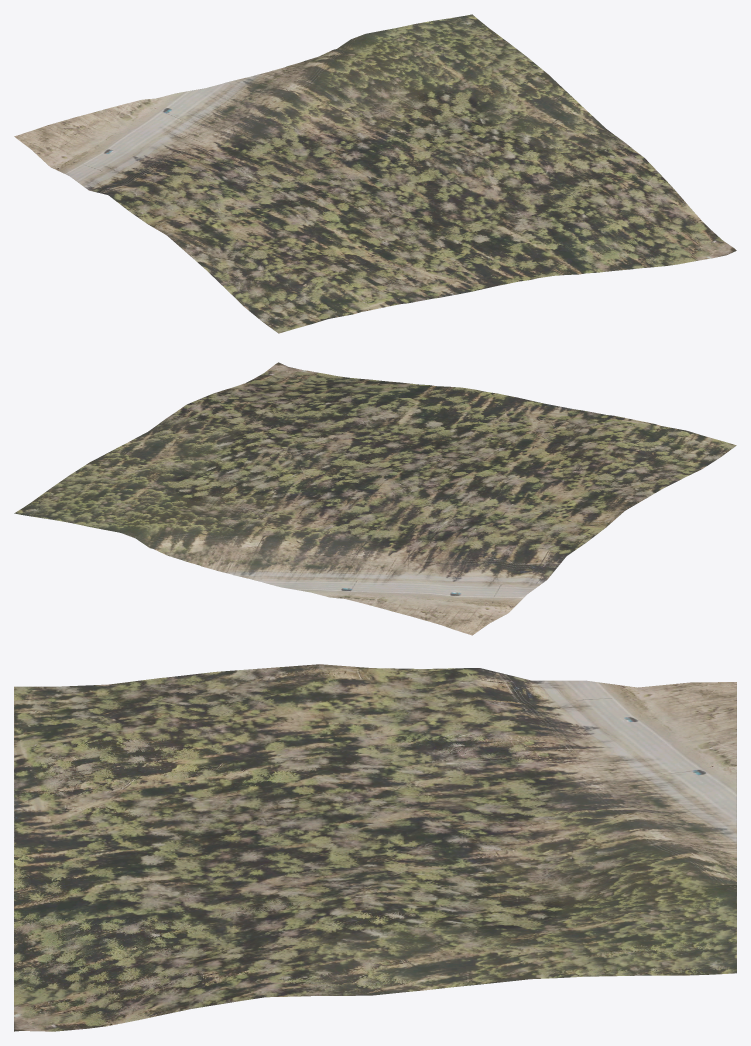
The model's file is CM_Terrain_24492302_6814060.fbx.
3 renders of one model, top to bottom at view 1: azimuth 30°, elevation 25°; view 2: azimuth 150°, elevation 25°; view 3: azimuth 270°, elevation 25°, orthographic. The views are drawn at different scales.
Visible parts, largest first — view 1: CM_Terrain_24492302_6814060_LOD0; view 2: CM_Terrain_24492302_6814060_LOD0; view 3: CM_Terrain_24492302_6814060_LOD0.
Part boxes in pixels (box(x1,y1,x2,y2)): CM_Terrain_24492302_6814060_LOD0: box(14, 14, 736, 333); CM_Terrain_24492302_6814060_LOD0: box(14, 362, 736, 635); CM_Terrain_24492302_6814060_LOD0: box(14, 664, 736, 1031).
Size of what is drawn, in the model's own units: 205 by 21.9 by 205.
